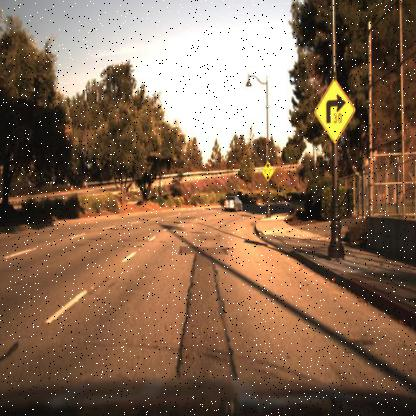car: (222, 192, 242, 215)
